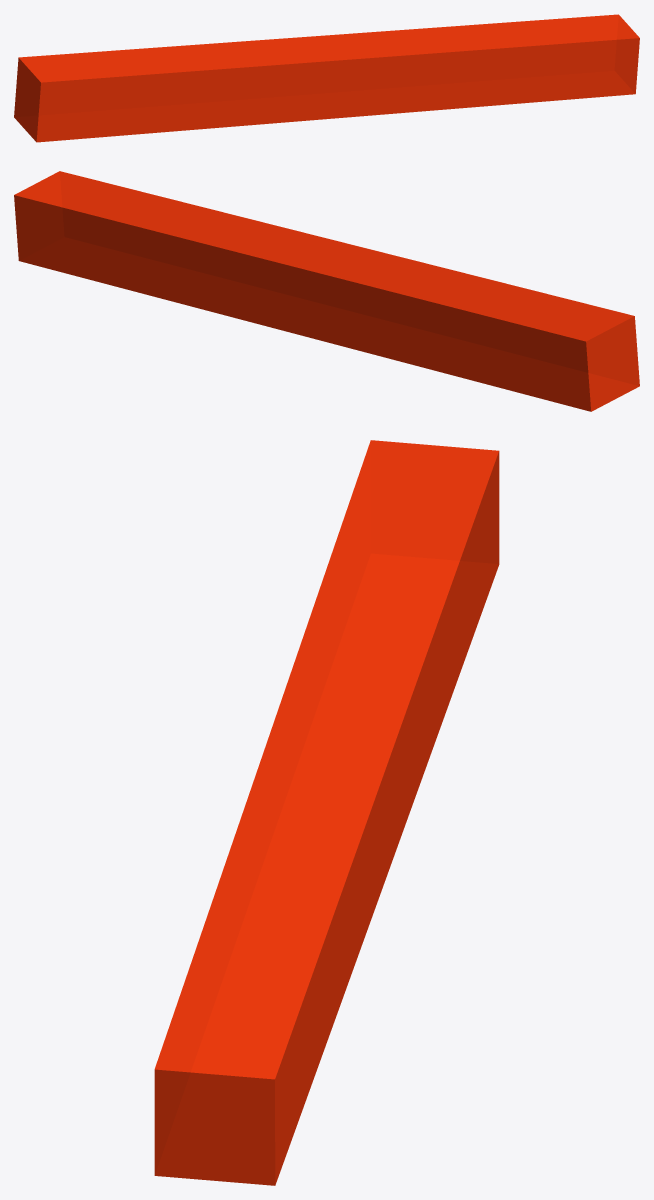
The model's file is Event_420107950_EErechit_6.fbx.
The picture shows the model from 3 angles, top to bottom: view 1: azimuth 30°, elevation 25°; view 2: azimuth 150°, elevation 25°; view 3: azimuth 270°, elevation 25°; orthographic projection. The views are drawn at different scales.
Visible parts, largest first — view 1: Model; view 2: Model; view 3: Model.
Part boxes in pixels (x1,y1,x2,y2): Model: [14, 14, 639, 142]; Model: [14, 171, 639, 411]; Model: [154, 440, 499, 1185].
Bounding box in the file's own units: 0.7651 × 0.1371 × 0.2047.
